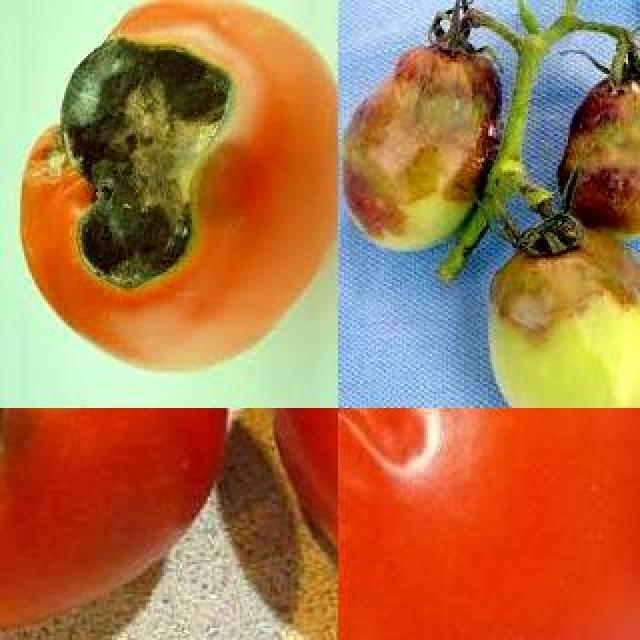Rotten_Tomato: (18, 0, 338, 368), (338, 408, 640, 640), (0, 408, 232, 640), (340, 2, 498, 254), (482, 216, 640, 408), (338, 408, 504, 540), (552, 46, 640, 238)
